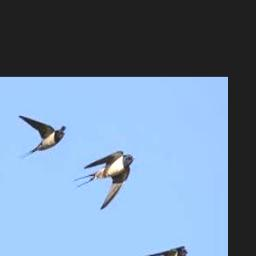Swallow: (72, 150, 134, 209), (18, 115, 65, 160), (141, 246, 187, 256)
